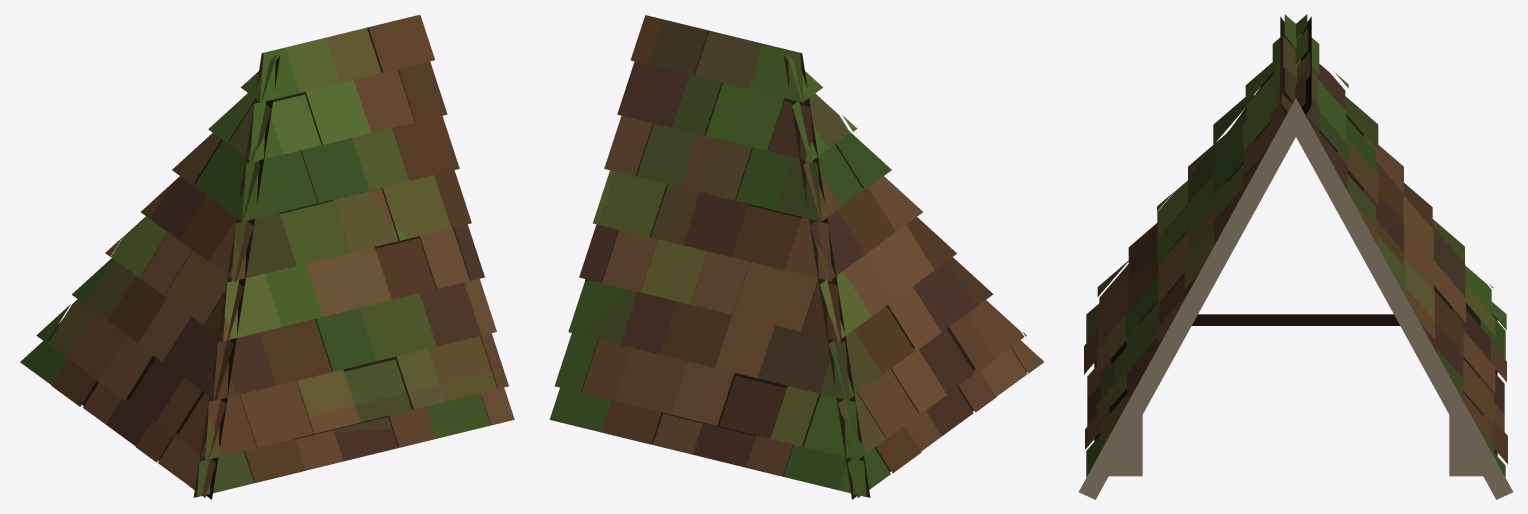
Rendered from roof-high-gable-end-mossy.glb.
The picture shows the model from 3 angles, left to right: view 1: azimuth 30°, elevation 25°; view 2: azimuth 150°, elevation 25°; view 3: azimuth 270°, elevation 25°; orthographic projection. The views are drawn at different scales.
Visible parts, largest first — view 1: roof-high-gable-end-mossy; view 2: roof-high-gable-end-mossy; view 3: roof-high-gable-end-mossy.
Boxes of the visible parts, x1,y1,x2,y2 form: roof-high-gable-end-mossy: (20, 15, 514, 499); roof-high-gable-end-mossy: (549, 15, 1043, 499); roof-high-gable-end-mossy: (1079, 14, 1512, 499).
Size of the model in its own units: 1.12 by 1.16 by 1.13.
